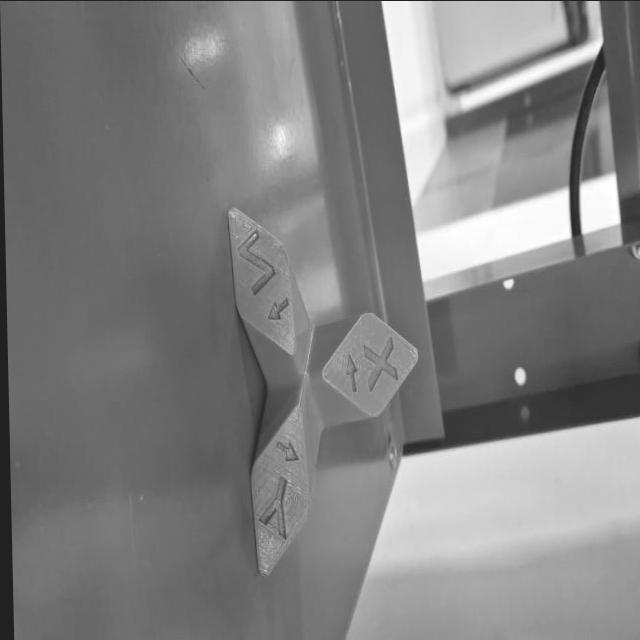eje: (222, 198, 426, 580)
